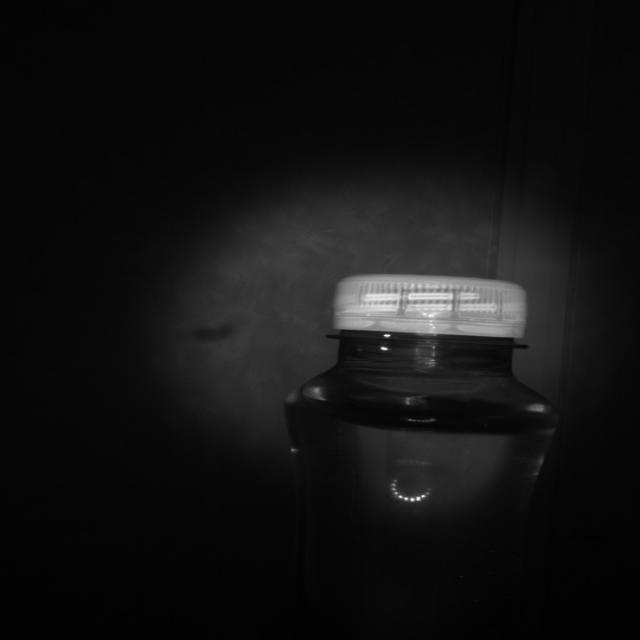Good: (331, 270, 528, 342)
